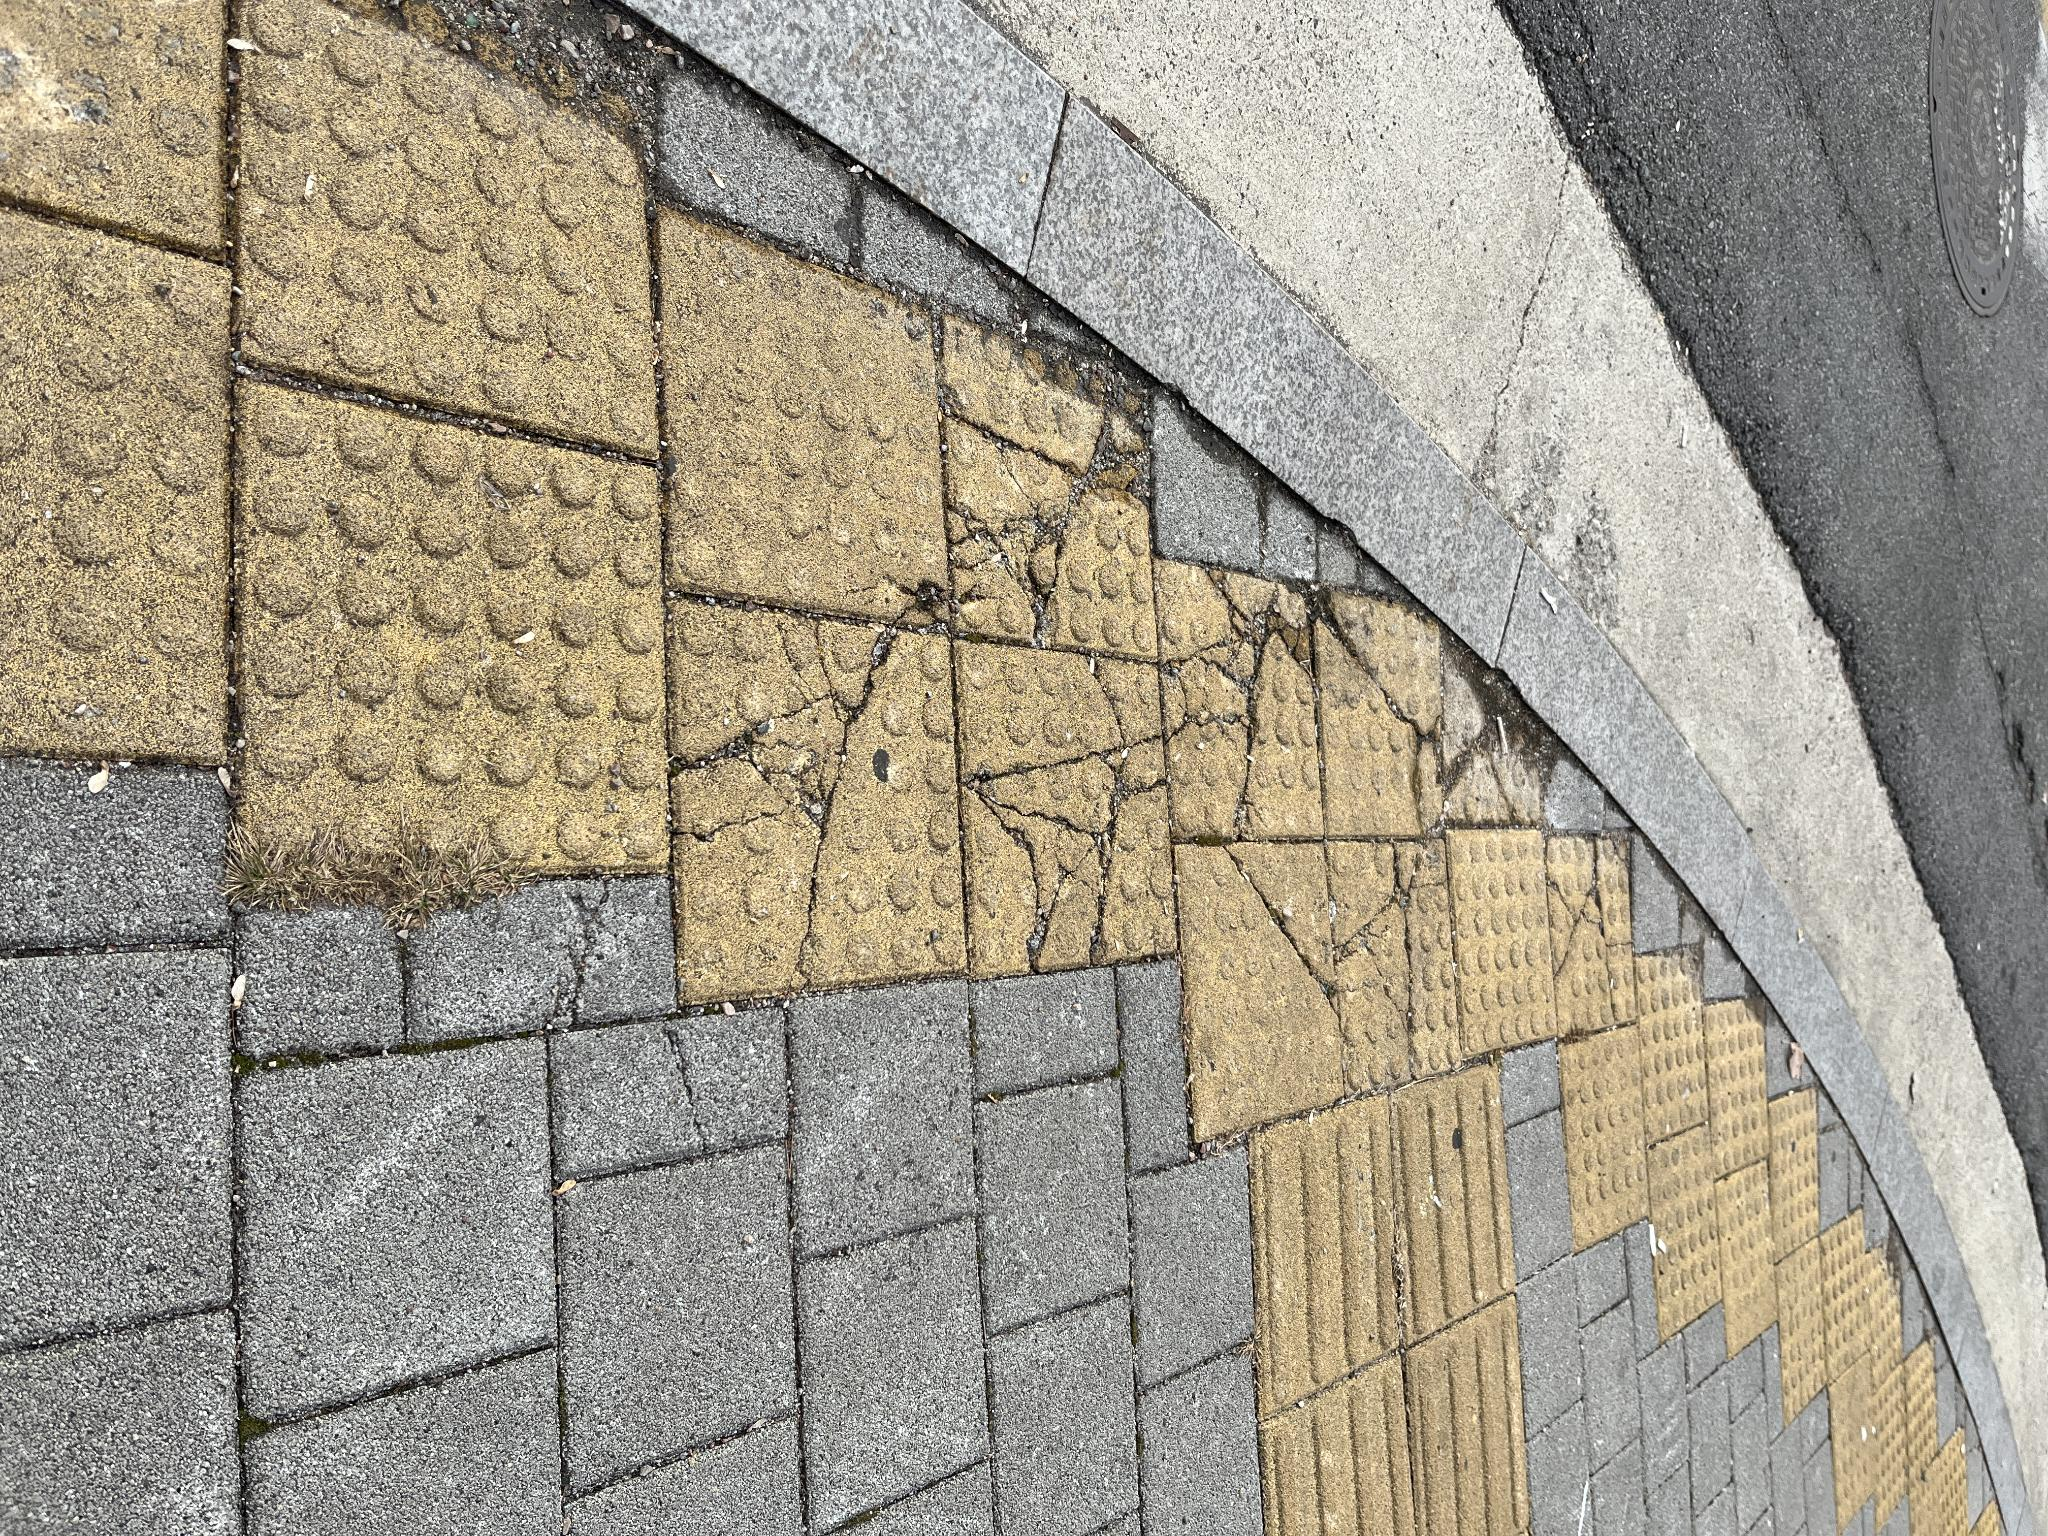Stop block broken: (601, 1083, 1000, 1375), (316, 892, 658, 1107), (645, 876, 974, 1094), (563, 728, 837, 891), (587, 603, 835, 736), (842, 589, 1092, 718), (835, 413, 1037, 500)
Stop block normal: (439, 1381, 869, 1536), (998, 279, 1177, 342)
